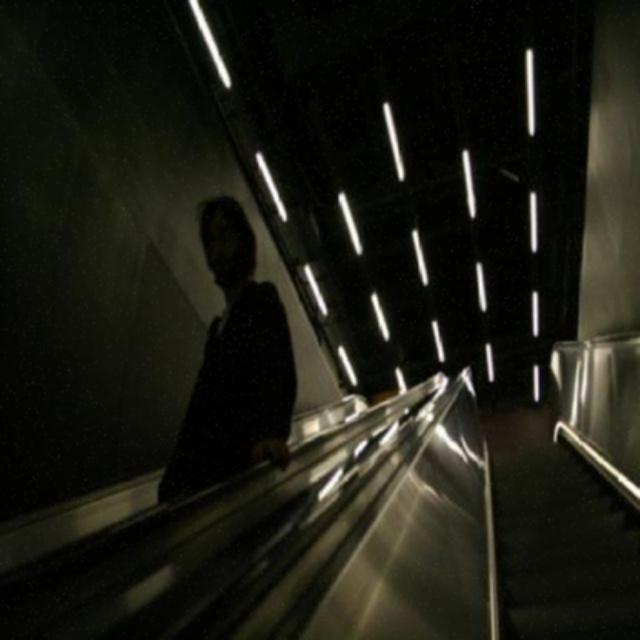stair: (486, 432, 640, 638)
